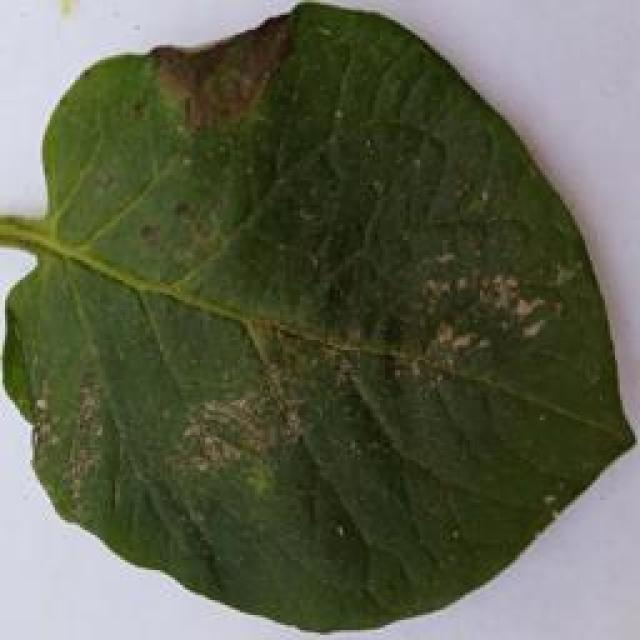Potato_Late_Blight: (13, 1, 633, 624)
